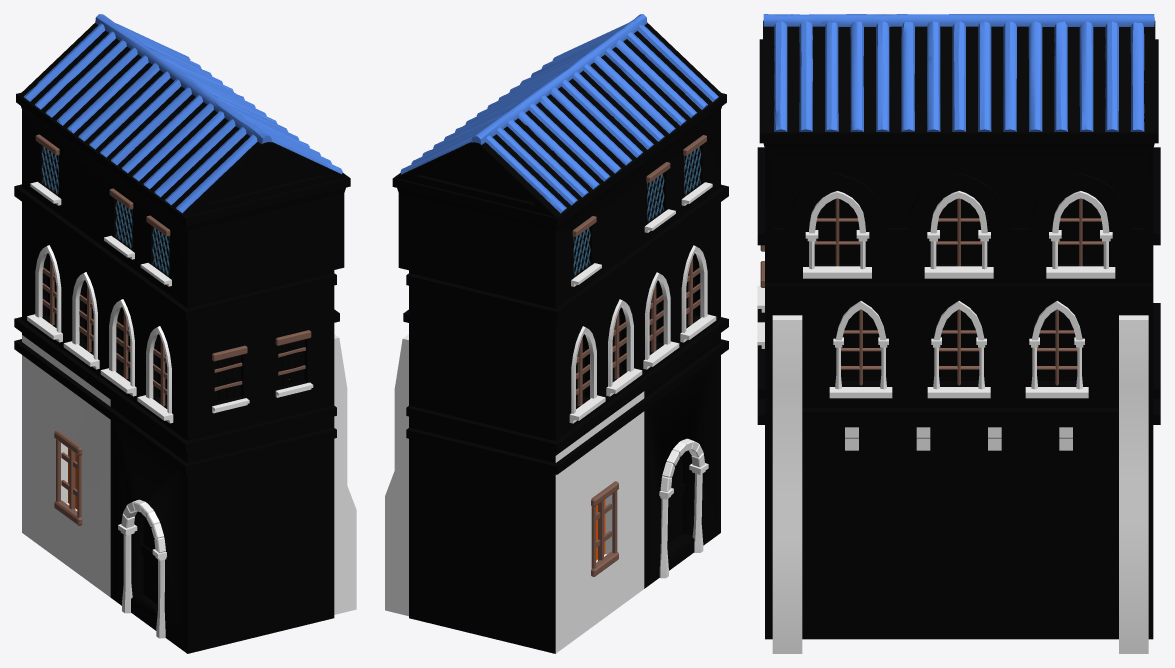
File: civilian_house_18_b.FBX
The picture shows the model from 3 angles, left to right: view 1: azimuth 30°, elevation 25°; view 2: azimuth 150°, elevation 25°; view 3: azimuth 270°, elevation 25°; orthographic projection. The views are drawn at different scales.
Visible parts, largest first — view 1: civilian_house_18 _b_LOD0; view 2: civilian_house_18 _b_LOD0; view 3: civilian_house_18 _b_LOD0.
Boxes of the visible parts, <box> form: civilian_house_18 _b_LOD0: <box>14,14,356,653</box>; civilian_house_18 _b_LOD0: <box>385,14,728,653</box>; civilian_house_18 _b_LOD0: <box>757,14,1160,653</box>.
Size of what is drawn, in the model's own units: 634 by 1666 by 1038.
